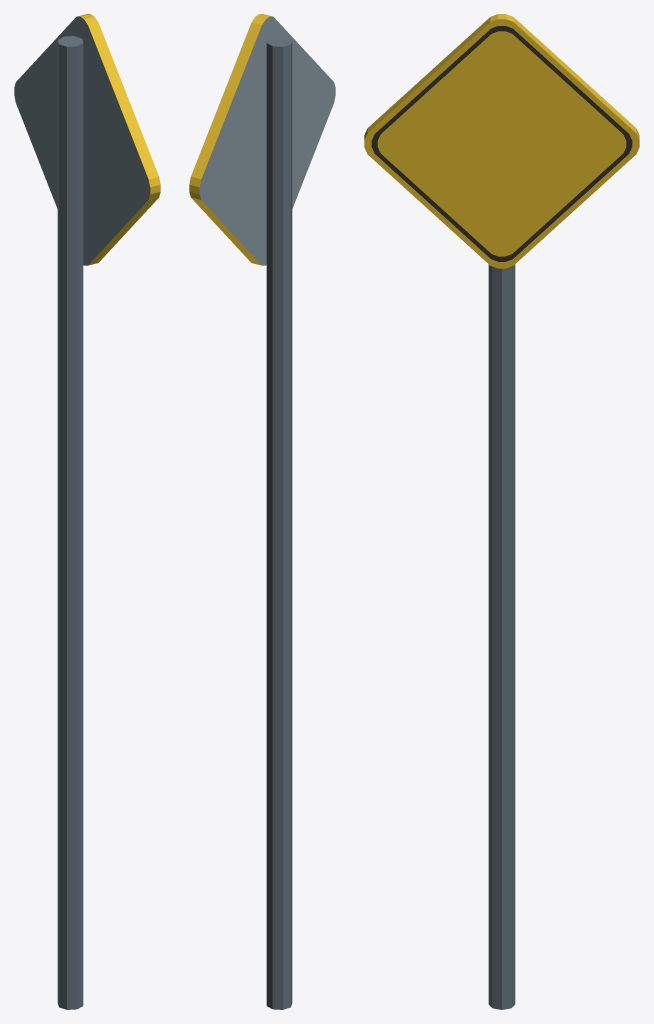
The model's file is kangaroo sign.fbx.
3 renders of one model, left to right at view 1: azimuth 30°, elevation 25°; view 2: azimuth 150°, elevation 25°; view 3: azimuth 270°, elevation 25°, orthographic.
Visible parts, largest first — view 1: Cylinder; view 2: Cylinder; view 3: Cylinder.
Part boxes in pixels (left/top/right/bottom): Cylinder: left=14, top=14, right=160, bottom=1009; Cylinder: left=189, top=14, right=335, bottom=1009; Cylinder: left=364, top=14, right=639, bottom=1009.
Bounding box in the file's own units: 56.19 × 1566 × 392.
